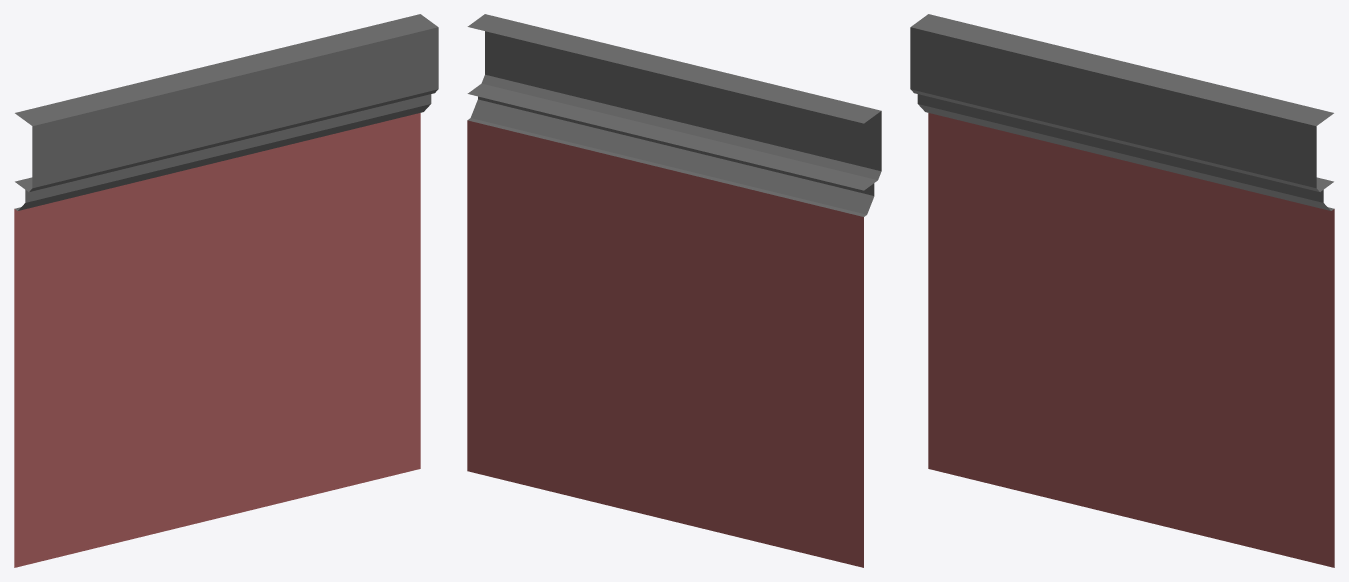
File: Wall_Top.fbx
3 renders of one model, left to right at view 1: azimuth 30°, elevation 25°; view 2: azimuth 150°, elevation 25°; view 3: azimuth 330°, elevation 25°, orthographic. The views are drawn at different scales.
Visible parts, largest first — view 1: Wall_Top_01; view 2: Wall_Top_01; view 3: Wall_Top_01.
Boxes of the visible parts, box(x1,y1,x2,y2) form: Wall_Top_01: box(14, 14, 438, 567); Wall_Top_01: box(467, 14, 881, 567); Wall_Top_01: box(910, 14, 1334, 567).
Size of the model in its own units: 4 by 4.28 by 0.3073.
